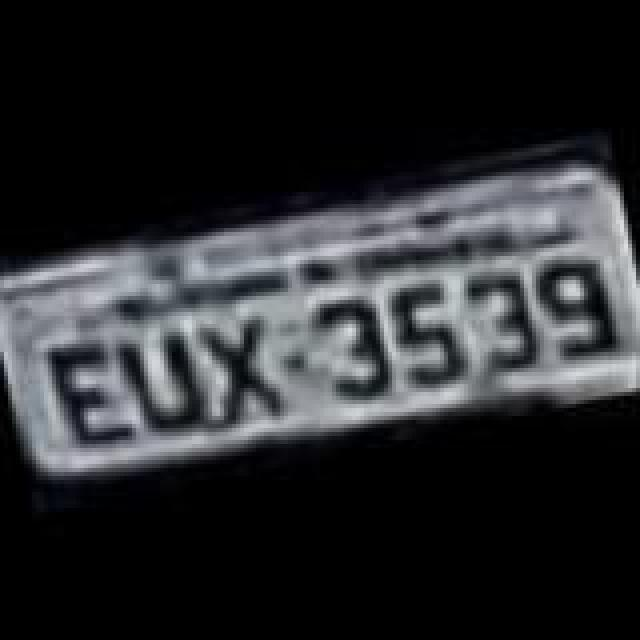3: (452, 252, 556, 384), (304, 284, 400, 408)
5: (376, 272, 472, 392)
9: (528, 236, 632, 372)
E: (42, 334, 146, 458)
U: (118, 320, 214, 436)
X: (184, 306, 296, 430)
